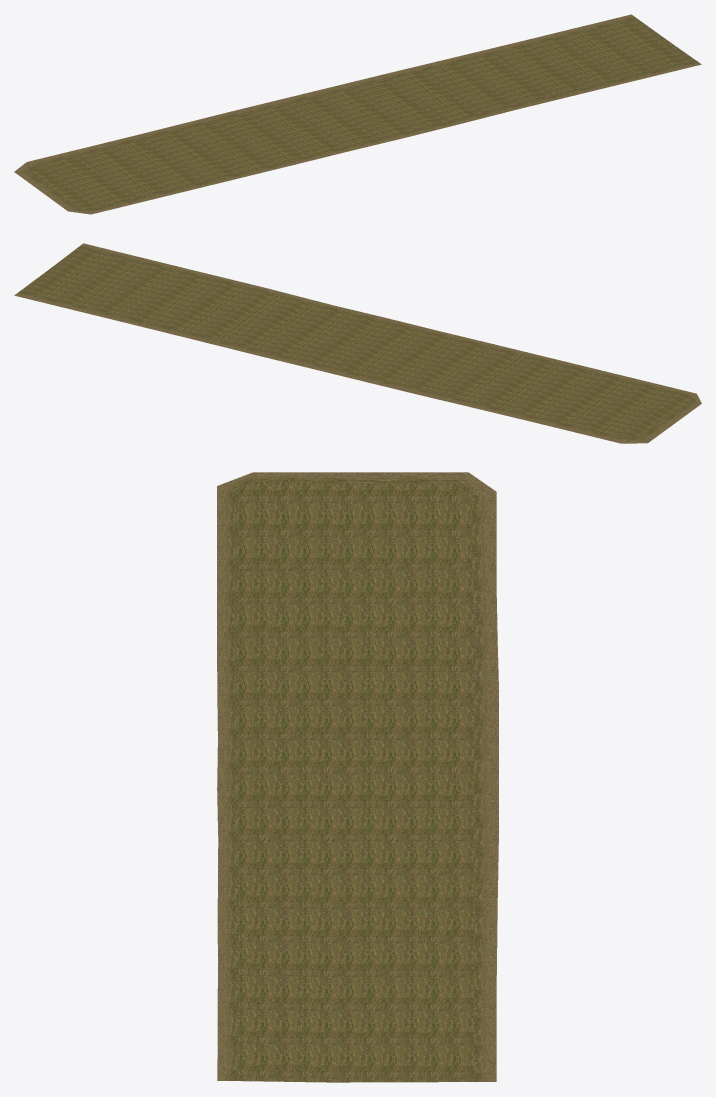
Rendered from lod_rnway_bit2.obj.
3 renders of one model, top to bottom at view 1: azimuth 30°, elevation 25°; view 2: azimuth 150°, elevation 25°; view 3: azimuth 270°, elevation 25°, orthographic. The views are drawn at different scales.
Parts seen in each view (by area): view 1: lod_rnway_bit2; view 2: lod_rnway_bit2; view 3: lod_rnway_bit2.
Boxes of the visible parts, x1,y1,x2,y2 form: lod_rnway_bit2: (14,14,701,214); lod_rnway_bit2: (14,243,701,443); lod_rnway_bit2: (217,472,498,1082).
Bounding box in the file's own units: 270 × 0.3352 × 52.83.
Materials: 2 (2 with a texture image).
